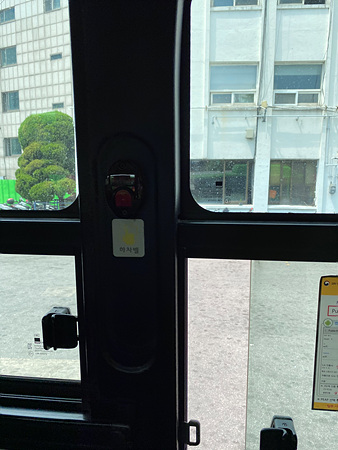bell: (103, 161, 146, 220)
